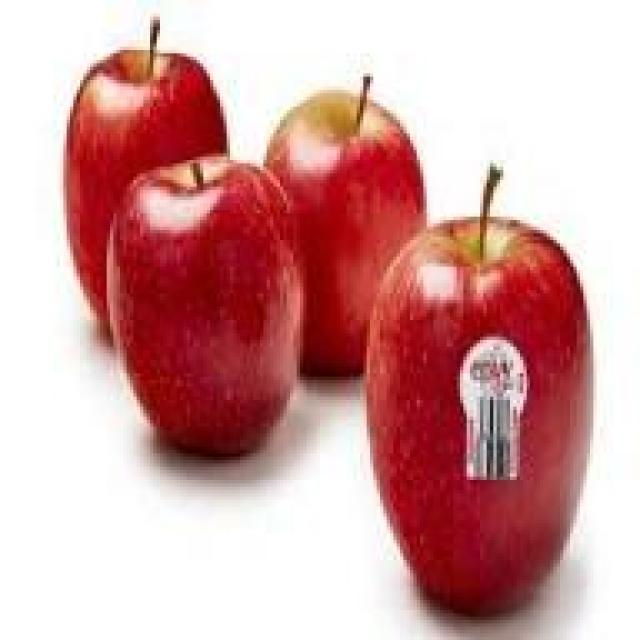apple: (363, 216, 600, 606), (110, 154, 293, 474), (64, 43, 224, 337), (267, 80, 420, 360)
